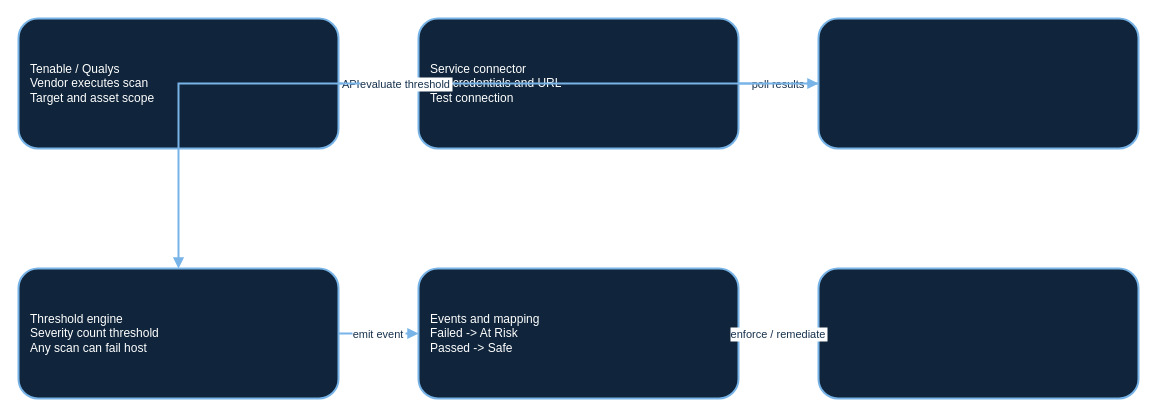
This 1156x416 diagram has some shape labels left out. Each missing label, with the centre of its shape:
"Remediation / exception Portal and rescan Exception group bypass" belongs at point (978, 333).
"Result polling Completed scans only Repetition rate / API limits" belongs at point (978, 83).
